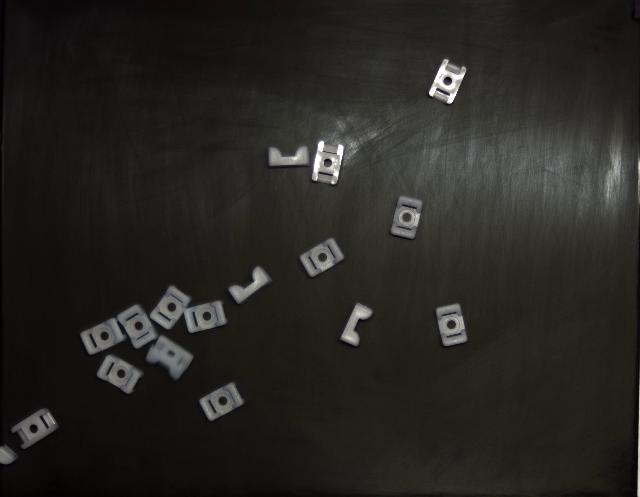first_side: (96, 355, 144, 394), (150, 285, 191, 330), (300, 238, 344, 278), (118, 305, 158, 349), (200, 382, 245, 421), (80, 319, 126, 355), (184, 301, 228, 334), (435, 304, 468, 346), (391, 196, 422, 239)
second_side: (11, 409, 59, 450), (429, 59, 466, 104), (312, 141, 344, 185)
third_side: (229, 266, 271, 305), (340, 304, 372, 346), (269, 146, 310, 168)
